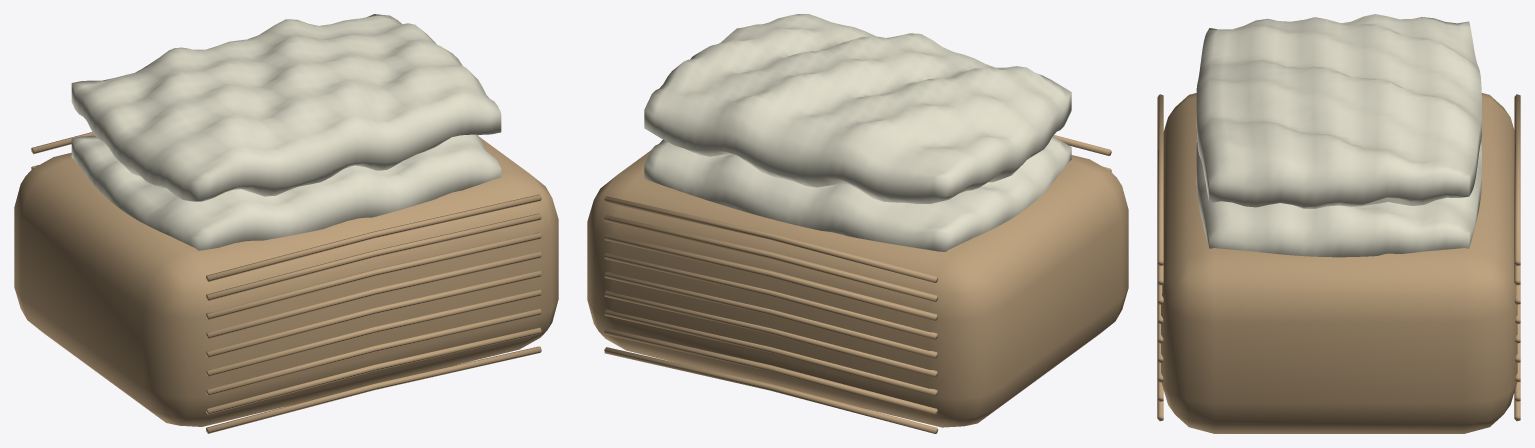
Rendered from bath_basket.glb.
3 renders of one model, left to right at view 1: azimuth 30°, elevation 25°; view 2: azimuth 150°, elevation 25°; view 3: azimuth 270°, elevation 25°, orthographic. The views are drawn at different scales.
Visible parts, largest first — view 1: bath_basket__body, bath_basket__accent; view 2: bath_basket__body, bath_basket__accent; view 3: bath_basket__body, bath_basket__accent.
Boxes of the visible parts, left/top/right/bottom form: bath_basket__body: left=14, top=132, right=558, bottom=433; bath_basket__accent: left=71, top=14, right=501, bottom=250; bath_basket__body: left=587, top=135, right=1128, bottom=433; bath_basket__accent: left=644, top=14, right=1071, bottom=251; bath_basket__body: left=1157, top=93, right=1520, bottom=433; bath_basket__accent: left=1196, top=14, right=1481, bottom=257.
Size of the model in its own units: 0.27 by 0.1749 by 0.2036.
